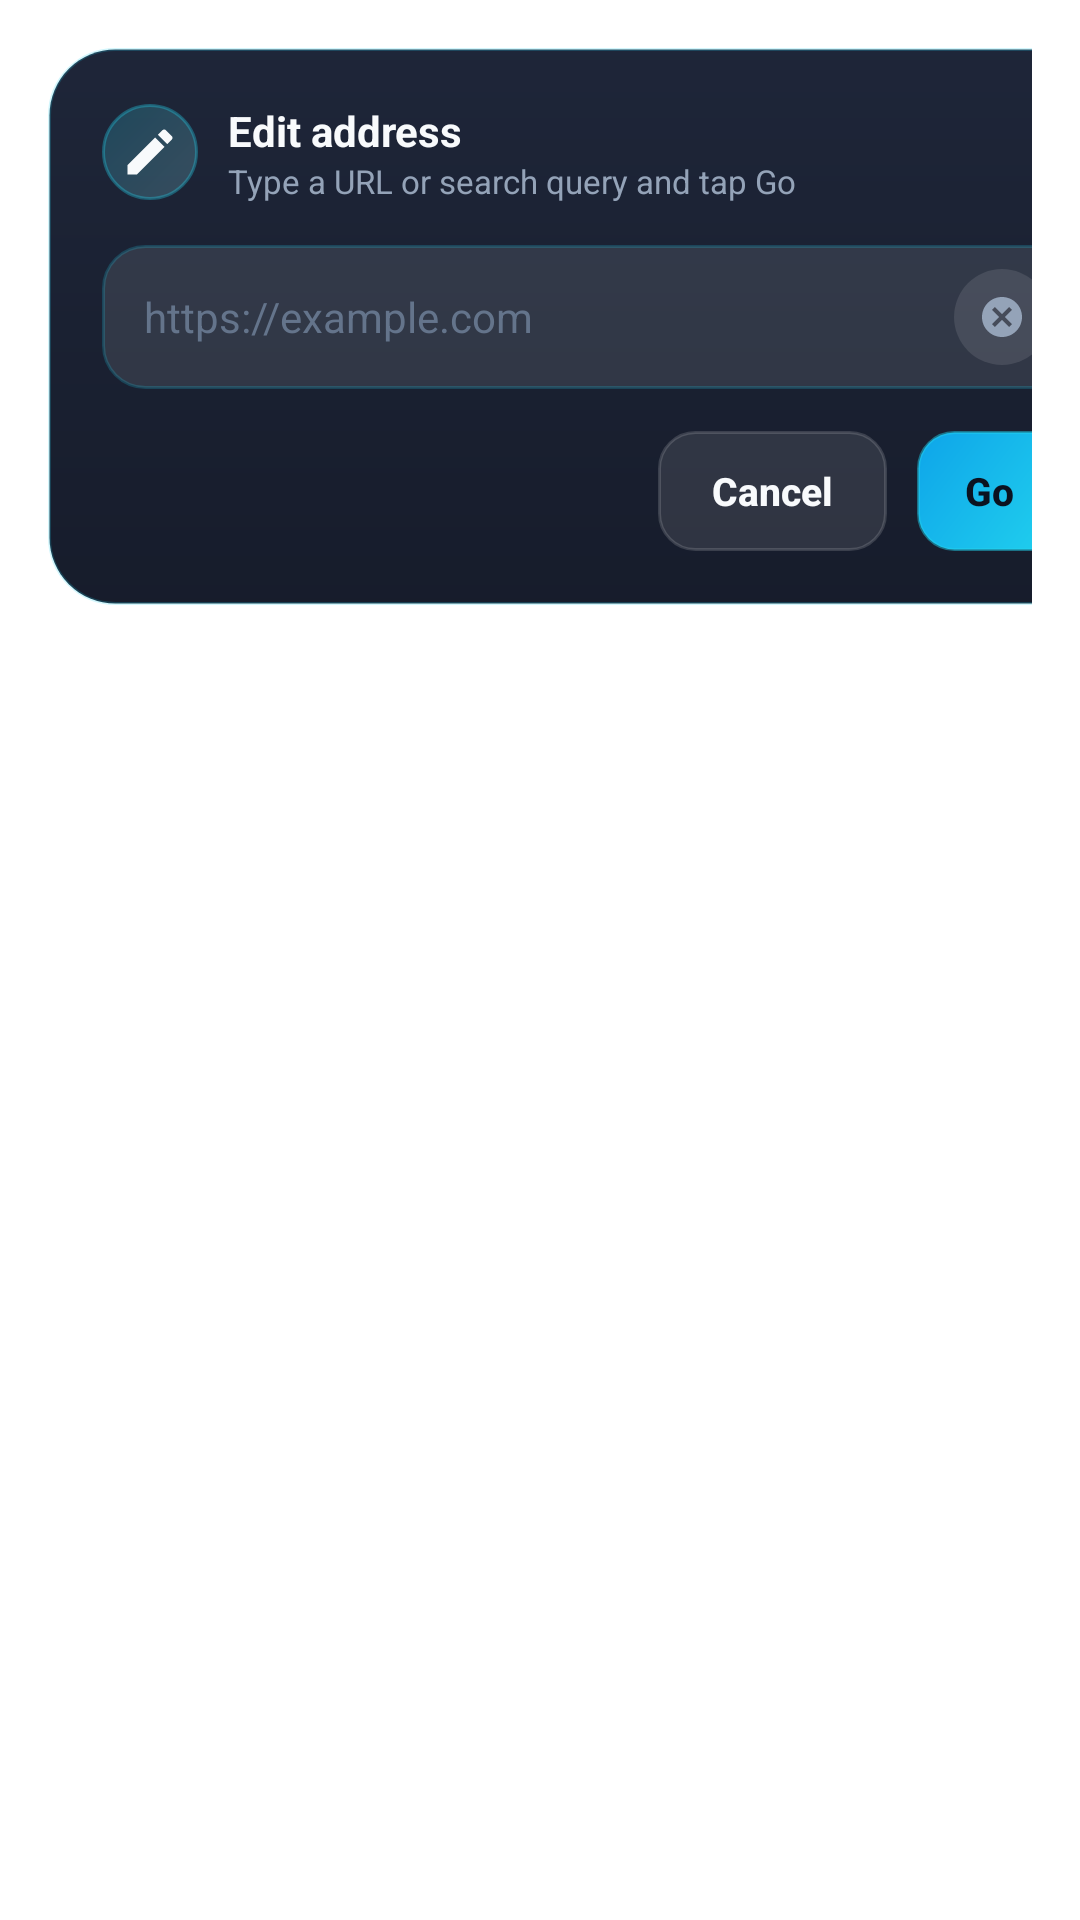

Screen size 1080x1920. Icon name, then its center in pixels as [x,y]:
Clear: [1002,317]
